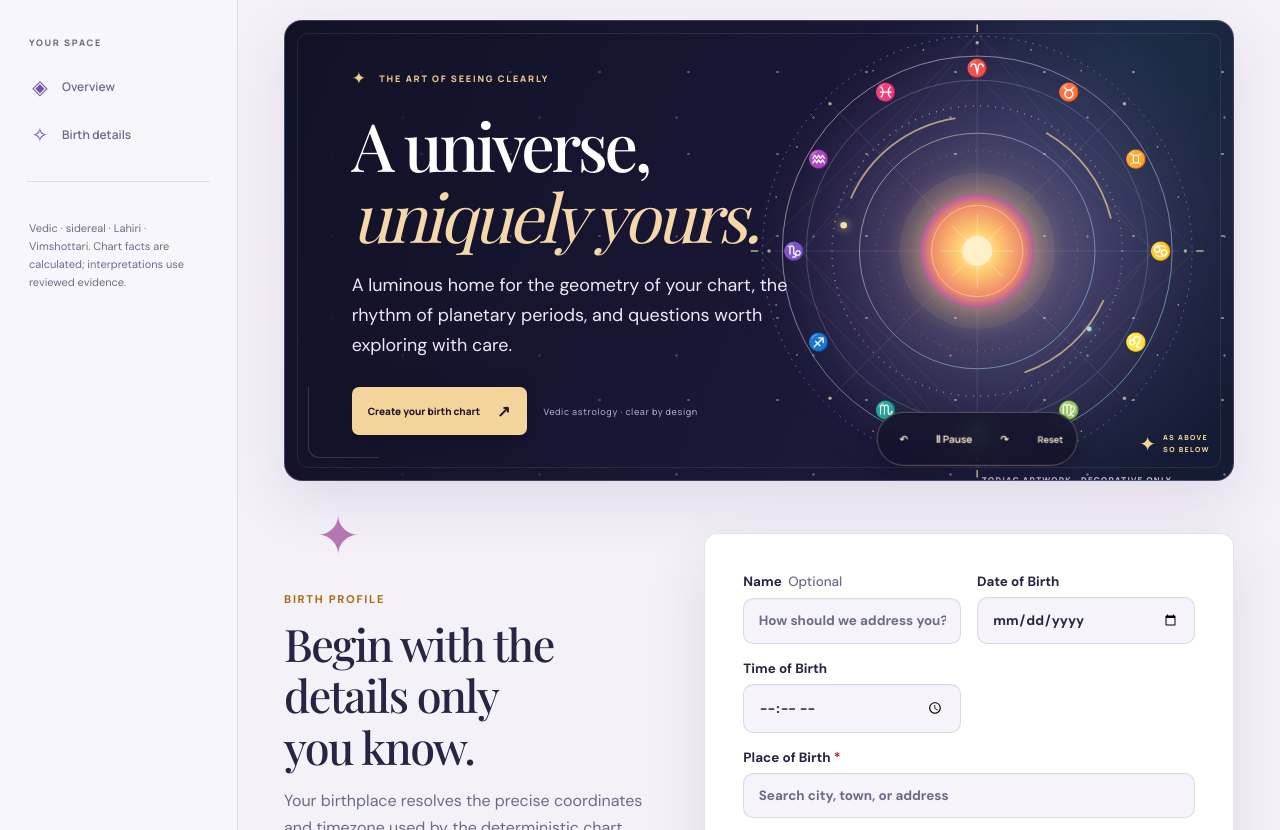
Test case: JyotishAI consumer experience › sends selected normalized place and an explicit offset-bearing as-of instant
The image size is (1280, 830).
Step 1. Type "1990-01-15" into the date field labelled "Date of Birth" → (1086, 620), box [977, 597, 1194, 644]
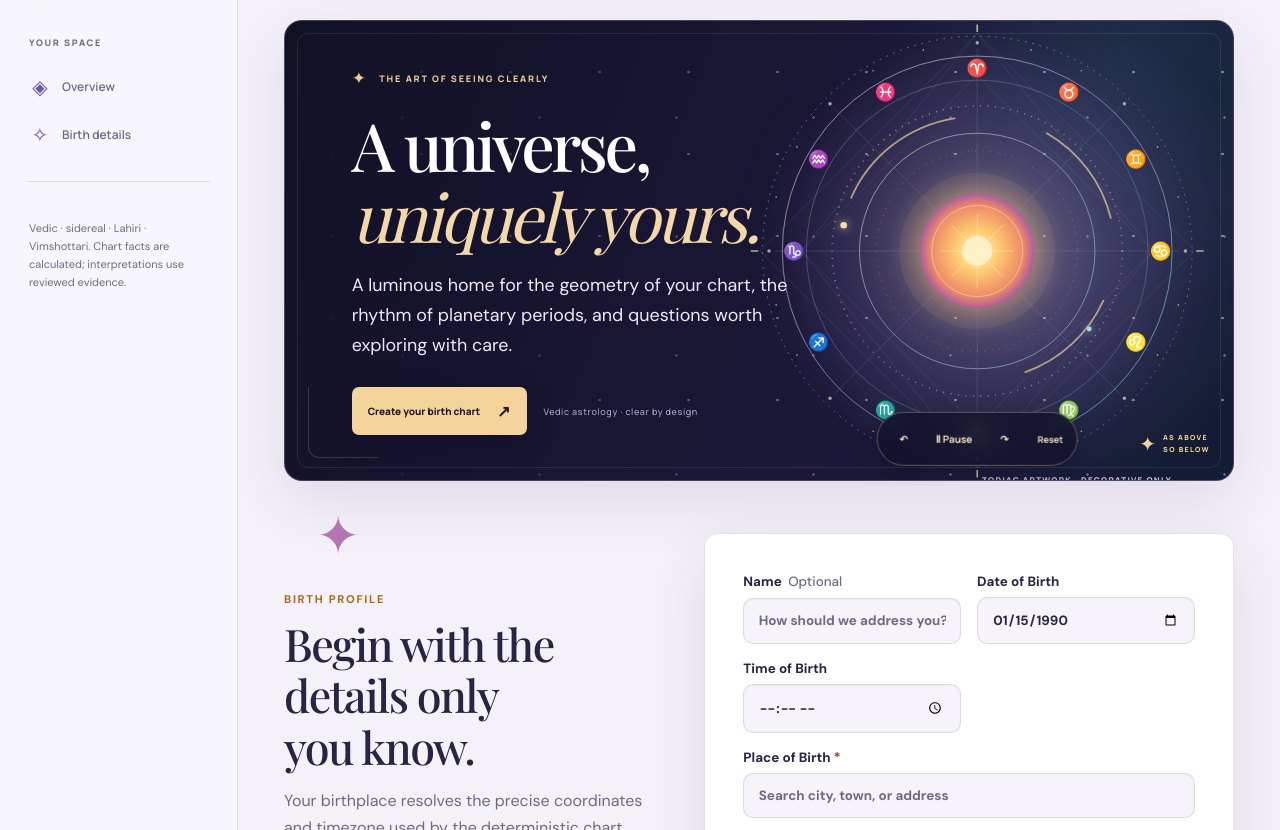
Step 2. Type "09:30" into the time field labelled "Time of Birth" → (852, 708), box [743, 684, 961, 733]
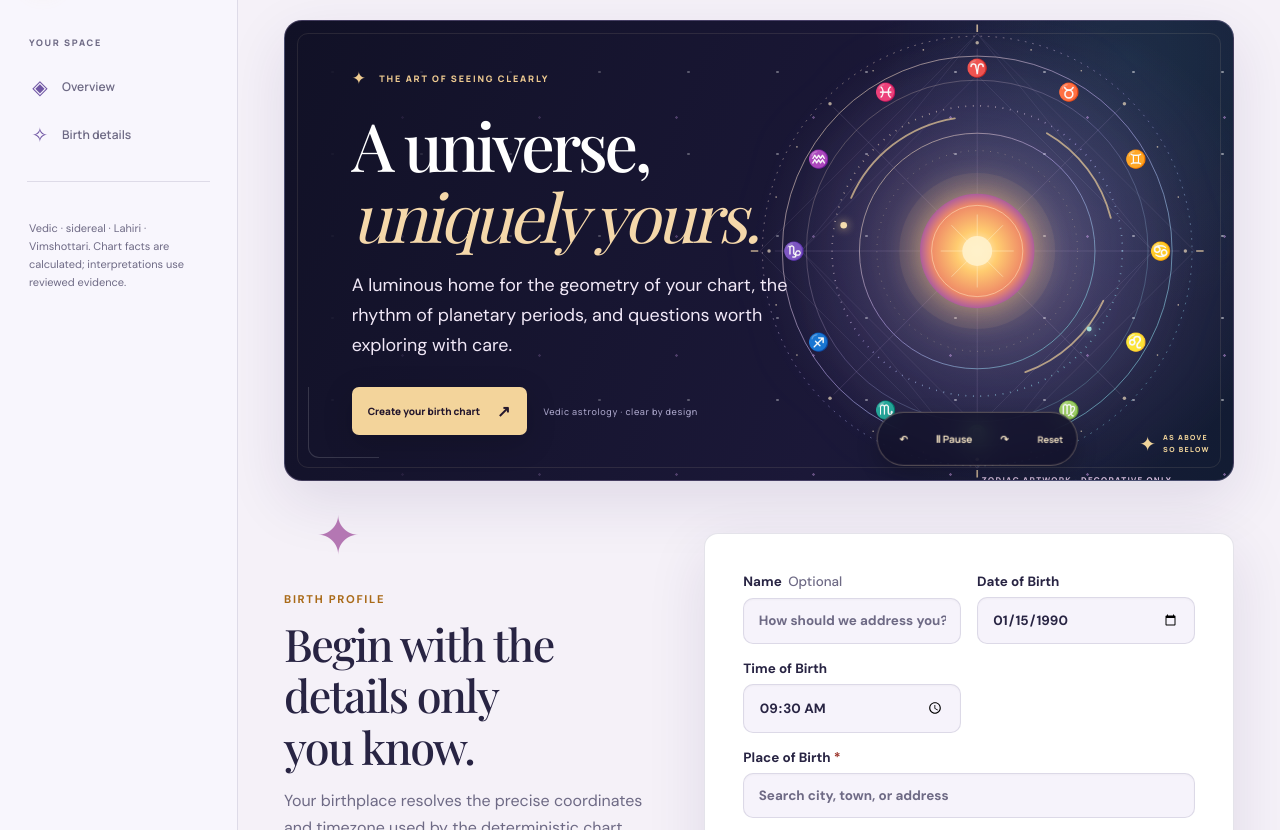
Step 3. Type "Gurgaon" into the field labelled "Place of Birth *" → (969, 795), box [743, 773, 1194, 818]
(page scrolled)
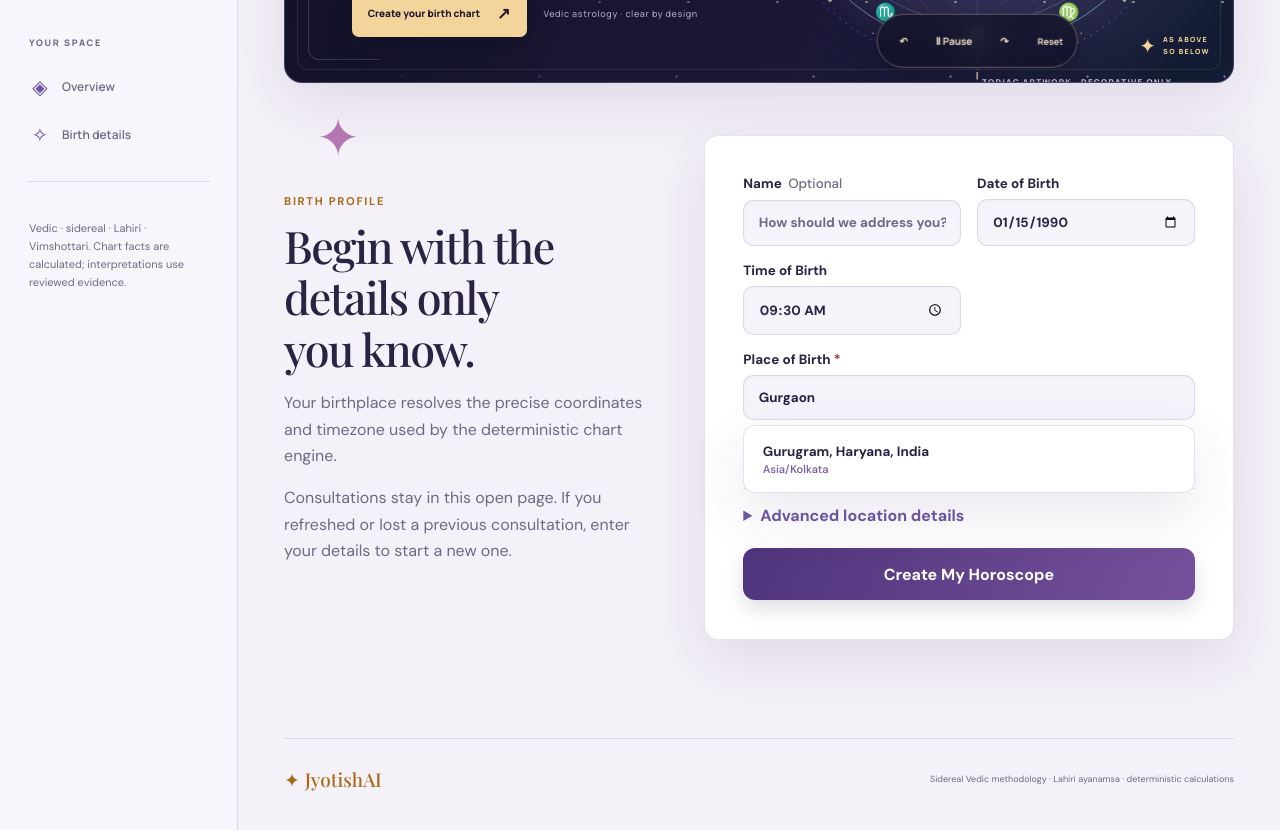
Expected: the option "Gurugram, Haryana, India Asia/Kolkata" is shown, [749, 431, 1189, 488]
Step 4. Click the text "Gurugram, Haryana, India" → (846, 451), box [763, 443, 929, 460]
(page scrolled)
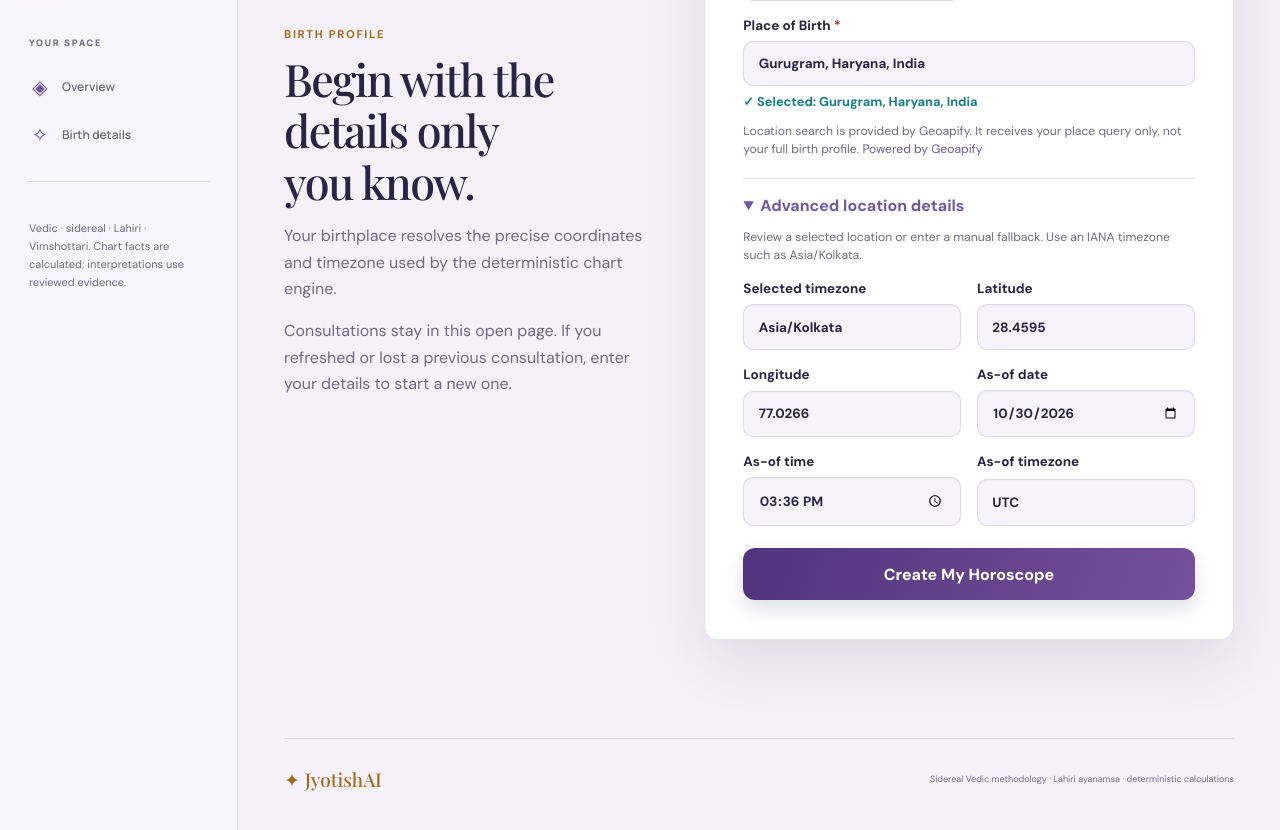
Step 5. Click the button "Create My Horoscope" → (969, 574), box [743, 548, 1194, 600]
(page scrolled)
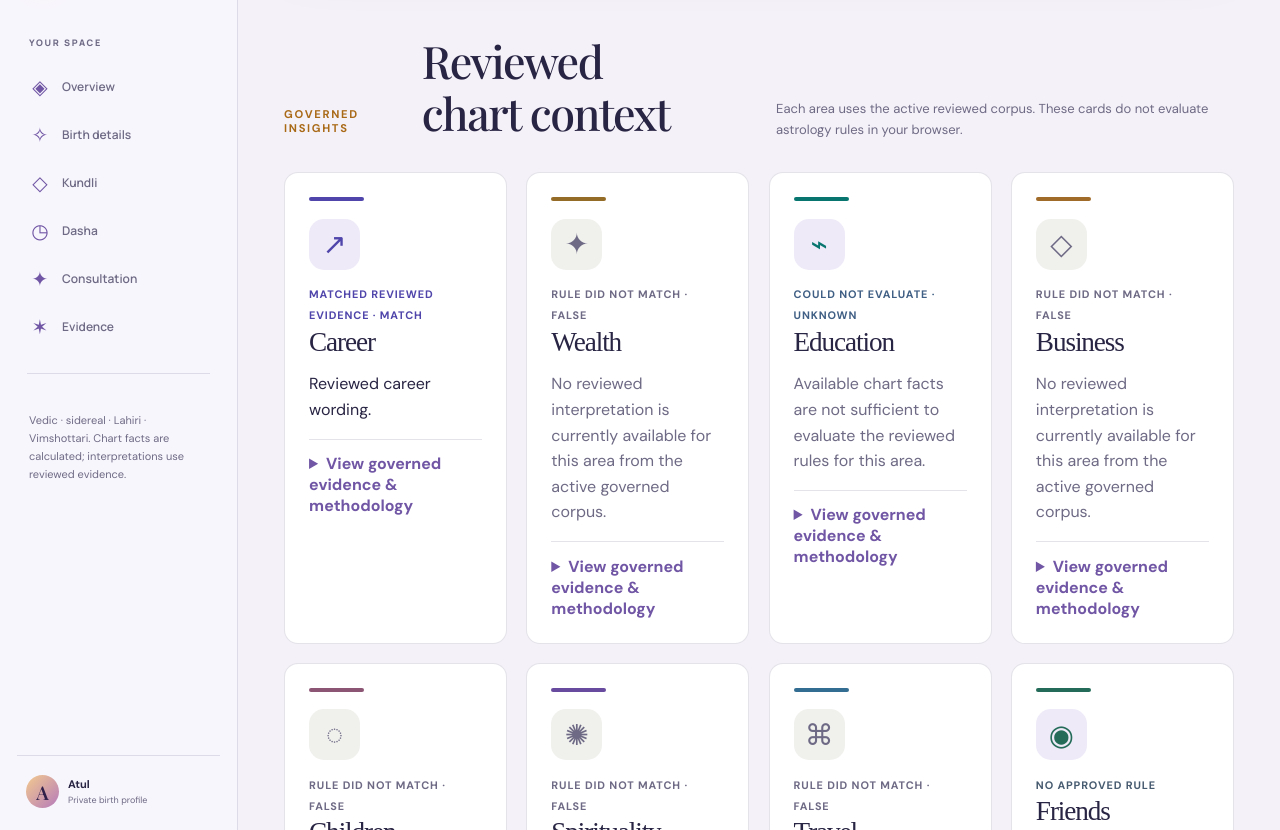
Expected: the text "Reviewed career wording." is shown, [309, 373, 431, 420]
